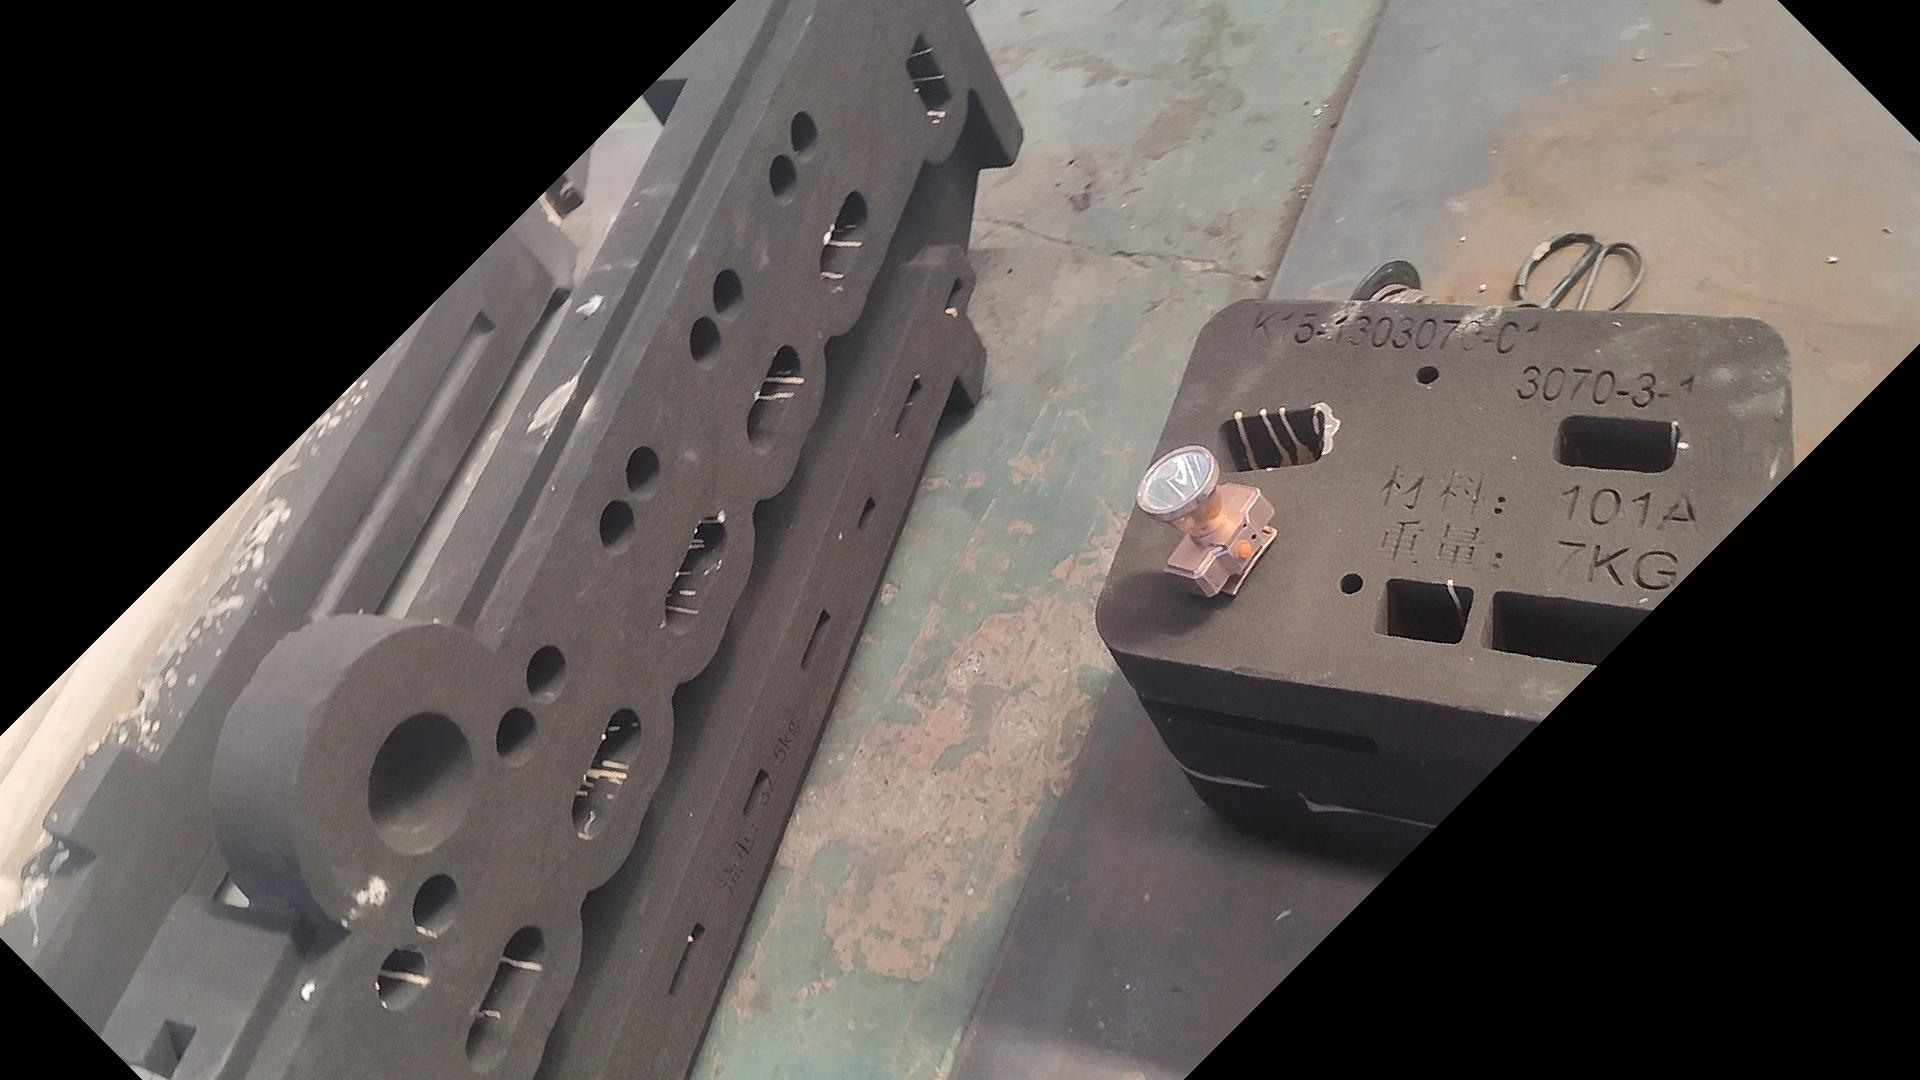pouring hole: (367, 711, 476, 855)
